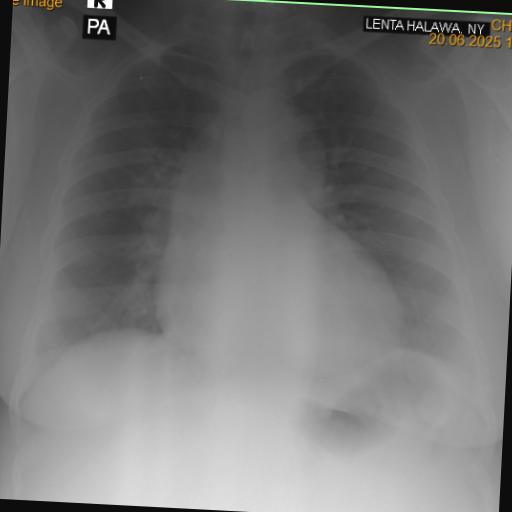kardiomegali: (16, 11, 510, 434)
